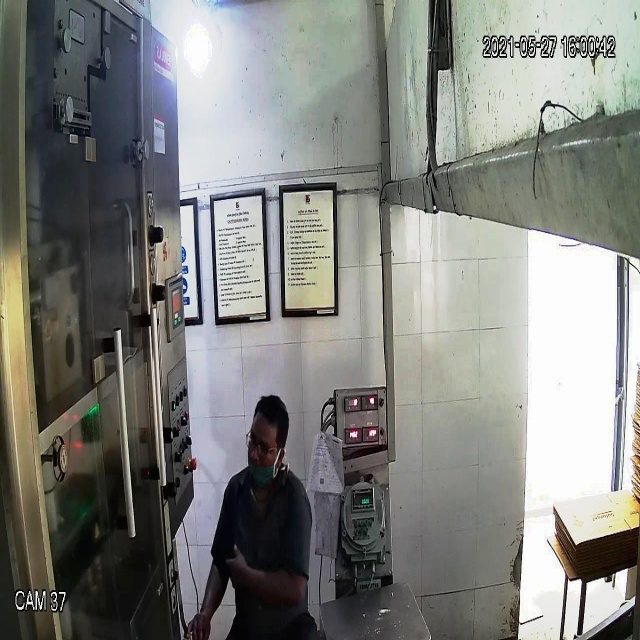Gafas: (240, 426, 294, 472)
